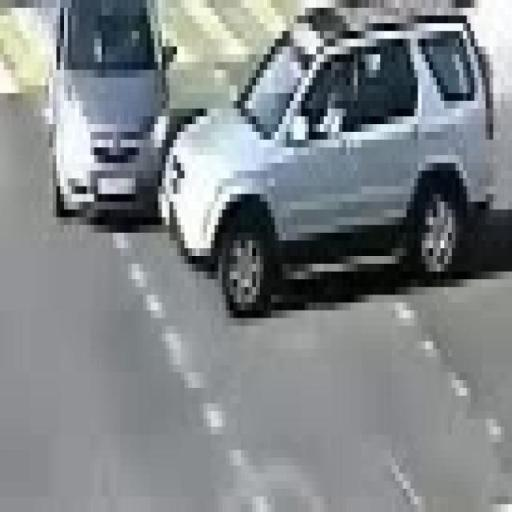小汽车撞小汽车: (48, 3, 497, 322)
